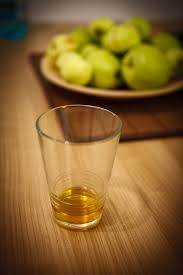apple: (127, 44, 169, 85), (87, 47, 122, 86), (104, 25, 145, 55)
